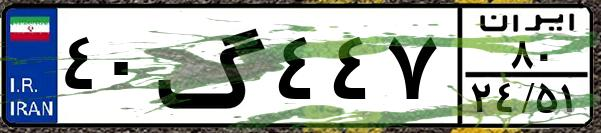0: (110, 28, 156, 98), (537, 27, 568, 80)
1: (560, 70, 590, 125)
2: (470, 70, 495, 125)
4: (270, 28, 330, 110), (330, 28, 385, 110), (57, 26, 110, 100), (495, 70, 520, 125)
5: (535, 70, 560, 125)
7: (385, 28, 445, 110)
8: (508, 27, 537, 80)
گ: (156, 12, 270, 120)
